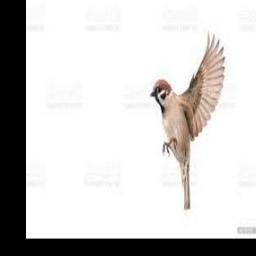Sparrow: (150, 31, 225, 210)
